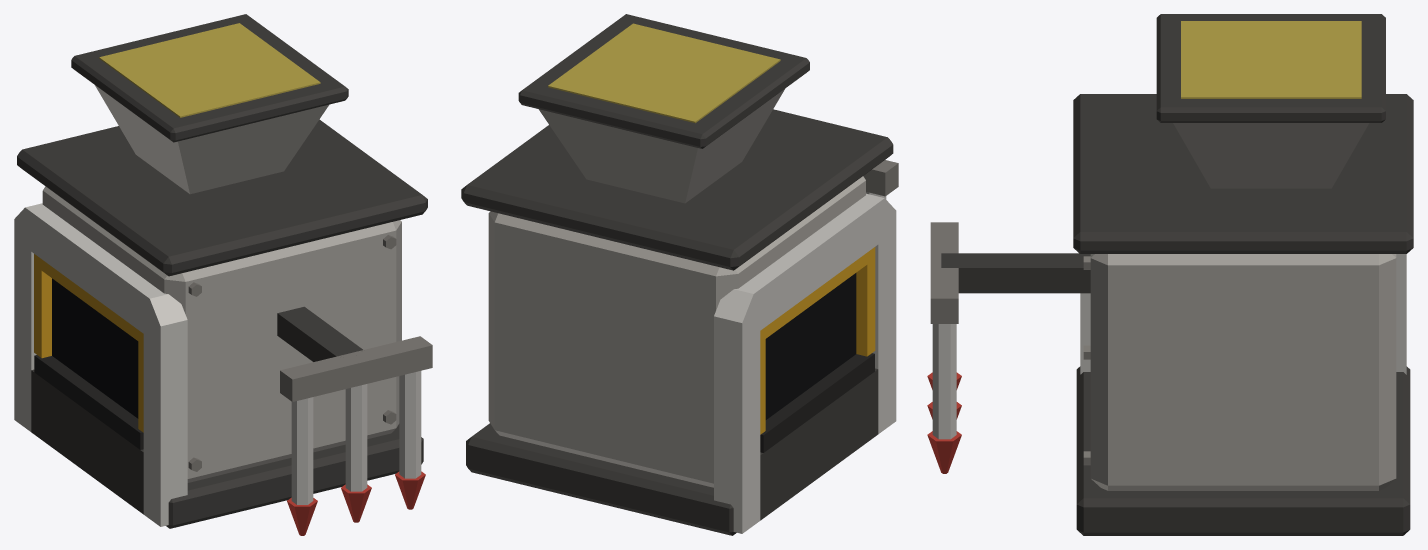
Rendered from seeder.fbx.
3 renders of one model, left to right at view 1: azimuth 30°, elevation 25°; view 2: azimuth 150°, elevation 25°; view 3: azimuth 270°, elevation 25°, orthographic. The views are drawn at different scales.
Visible parts, largest first — view 1: seeder; view 2: seeder; view 3: seeder.
Boxes of the visible parts, x1=… form: seeder: x1=14, y1=14, x2=432, y2=535; seeder: x1=461, y1=14, x2=898, y2=535; seeder: x1=927, y1=14, x2=1413, y2=535.
Size of the model in its own units: 2.97 by 3.9 by 4.2.
